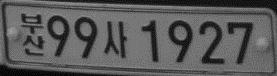1: (138, 19, 162, 61)
2: (199, 20, 225, 64)
7: (227, 20, 253, 65)
9: (167, 19, 192, 63), (46, 14, 70, 57), (73, 16, 97, 58)
부산_V: (20, 12, 45, 55)
사: (103, 20, 126, 59)
